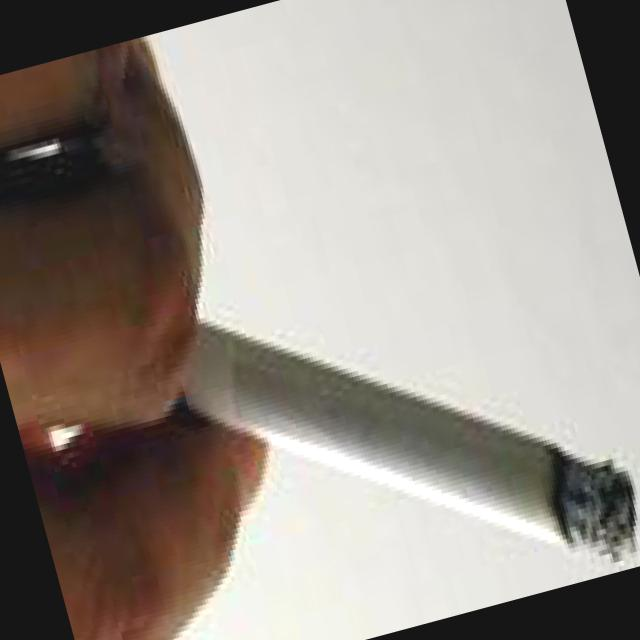smoke: (127, 212, 640, 640)
